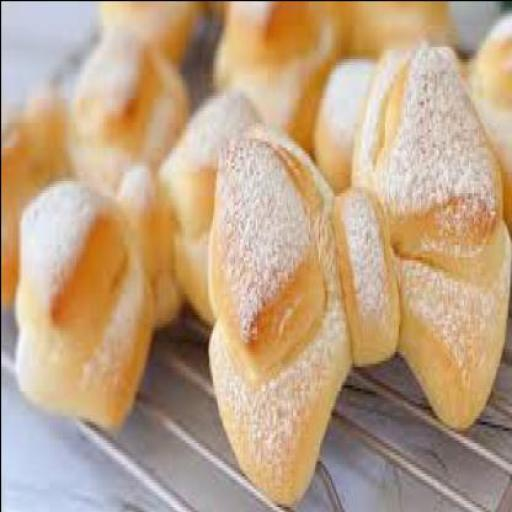biodegradable: (208, 36, 511, 503), (14, 76, 272, 430), (1, 27, 190, 302), (314, 8, 511, 232), (212, 2, 456, 156), (102, 1, 229, 58)
